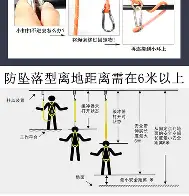safety belt: (100, 147, 113, 163), (47, 101, 58, 117), (71, 133, 82, 149)
